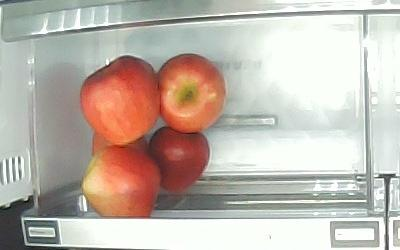apple: (80, 54, 161, 146), (156, 53, 227, 135), (83, 144, 161, 218), (148, 125, 210, 192), (91, 131, 149, 156)
